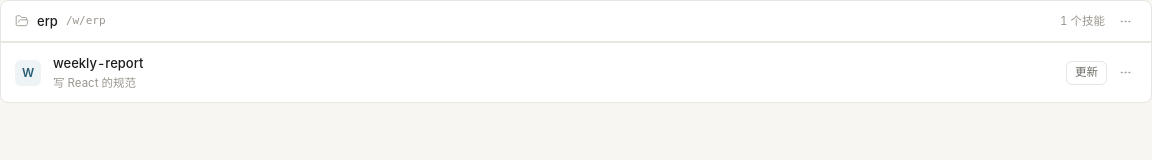
Test case: v7 任务 8:项目行事后改选工具 › 🔴 I1:这台机器的工具列表探测失败时,走独立的失败态文案,不能说成没有能改选的工具
Expected: the text "weekly-report" is shown, [53,55,143,71]
What coordinates should you click on to do the following:
click the button with test id "prow-weekly-report-body"
I would click on:
 (98, 63)
Its box is [15,53,1054,92].
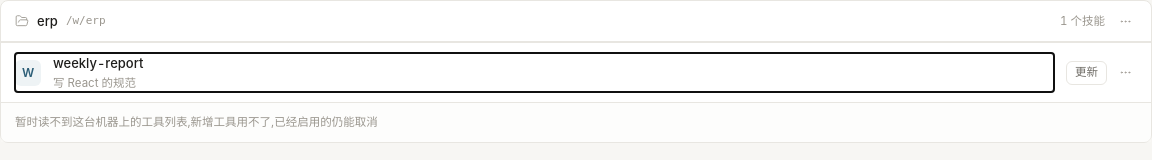
Expected: the text "暂时读不到这台机器上的工具列表,新增工具用不了,已经启用的仍能取消" is shown, [15,115,378,129]
